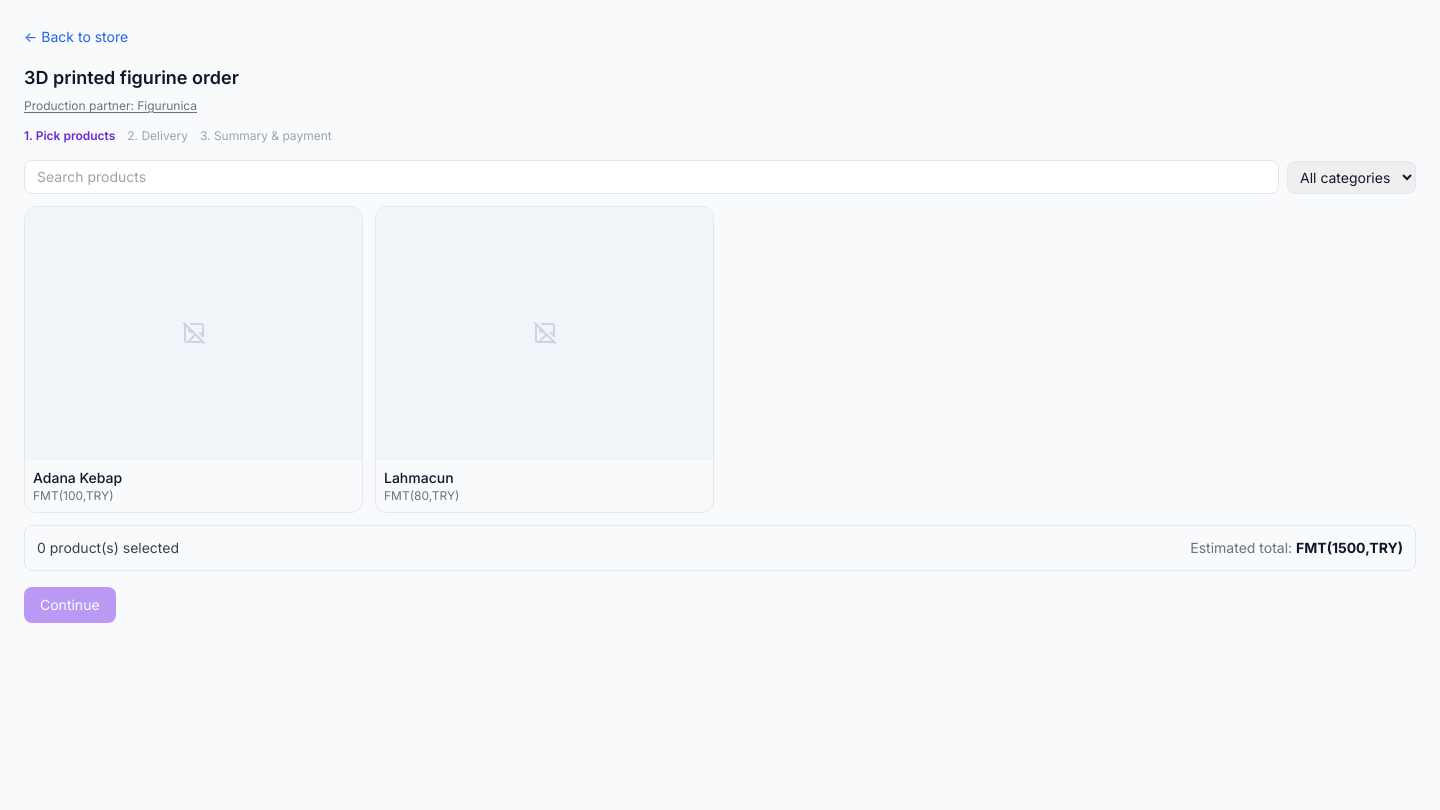
Test: Print3dWizardPage › blocks the Next button until at least one product is selected, and unblocks past the min
The width and height of the screenshot is (1440, 810).
Expected: the button "Continue" is disabled, x1=24 y1=587 x2=116 y2=623
Click the button with test id "print3d-pick-p1" at (194, 359), box x1=24 y1=206 x2=363 y2=513
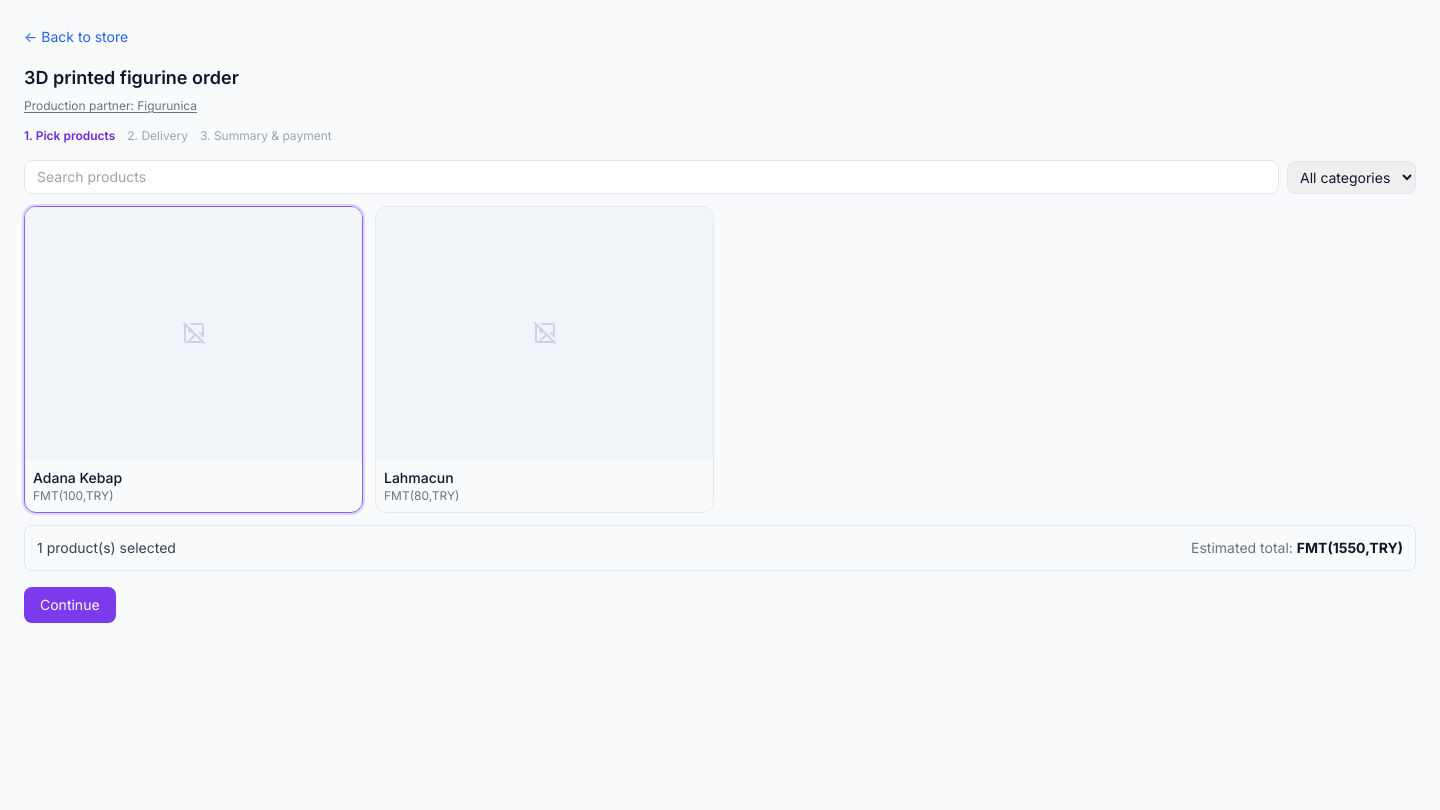
Result: the button "Continue" is enabled at x1=24 y1=587 x2=116 y2=623
